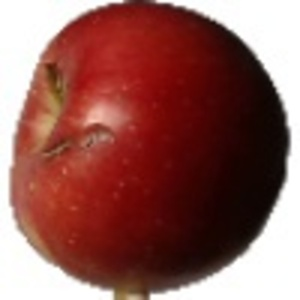maçã braeburn: (6, 1, 294, 289)
